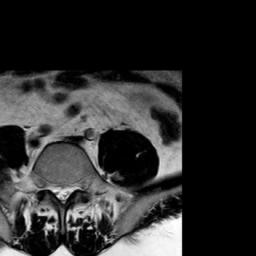CCS_normal: (58, 174, 66, 210)
LFS_normal: (73, 173, 82, 194)
LLS_normal: (66, 174, 73, 204)
RFS_normal: (42, 172, 50, 196)
RLS_normal: (51, 174, 58, 202)
